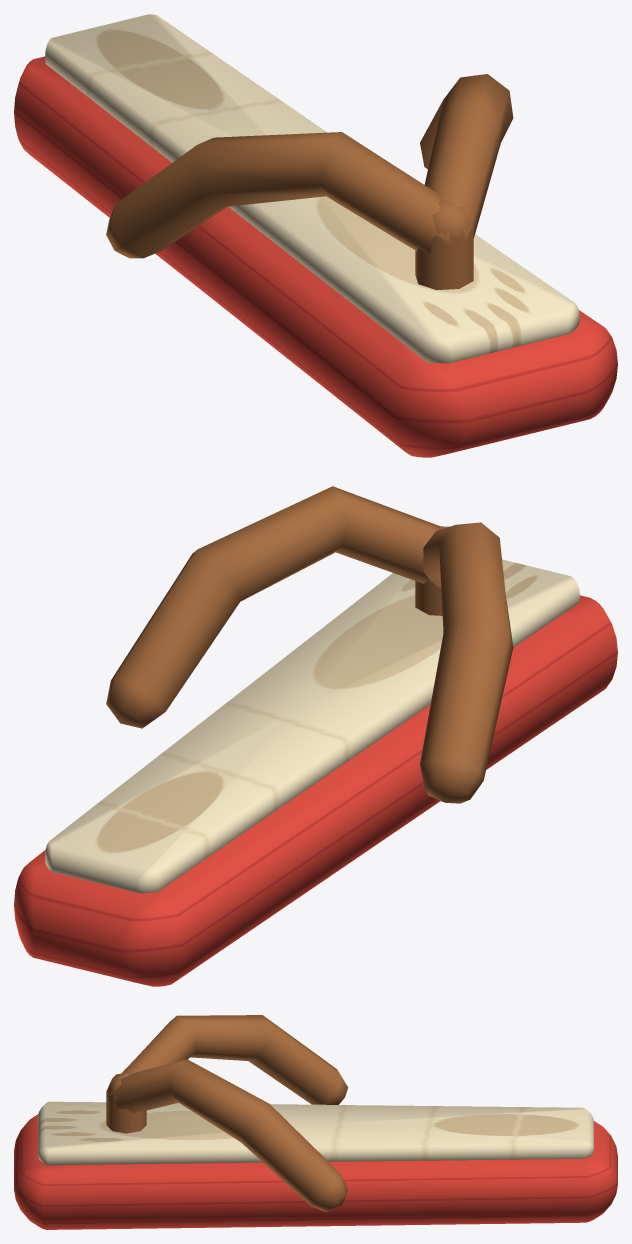
File: tsinelas.glb
3 views of the same model, one above another, from view 1: azimuth 30°, elevation 25°; view 2: azimuth 150°, elevation 25°; view 3: azimuth 270°, elevation 25° (orthographic). The views are drawn at different scales.
Parts seen in each view (by area): view 1: shoe; view 2: shoe; view 3: shoe.
Part boxes in pixels (left/top/right/bottom): shoe: left=14, top=14, right=617, bottom=457; shoe: left=14, top=486, right=617, bottom=986; shoe: left=14, top=1015, right=617, bottom=1229.
Size of the model in its own units: 0.141 by 0.0883 by 0.2996.
Materials: 1 (1 with a texture image).
